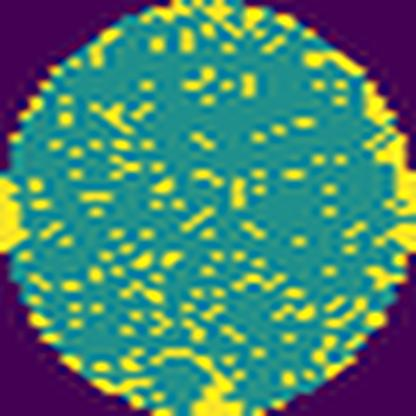Edge-Loc: (357, 80, 416, 256), (150, 342, 251, 416), (0, 171, 27, 255)
